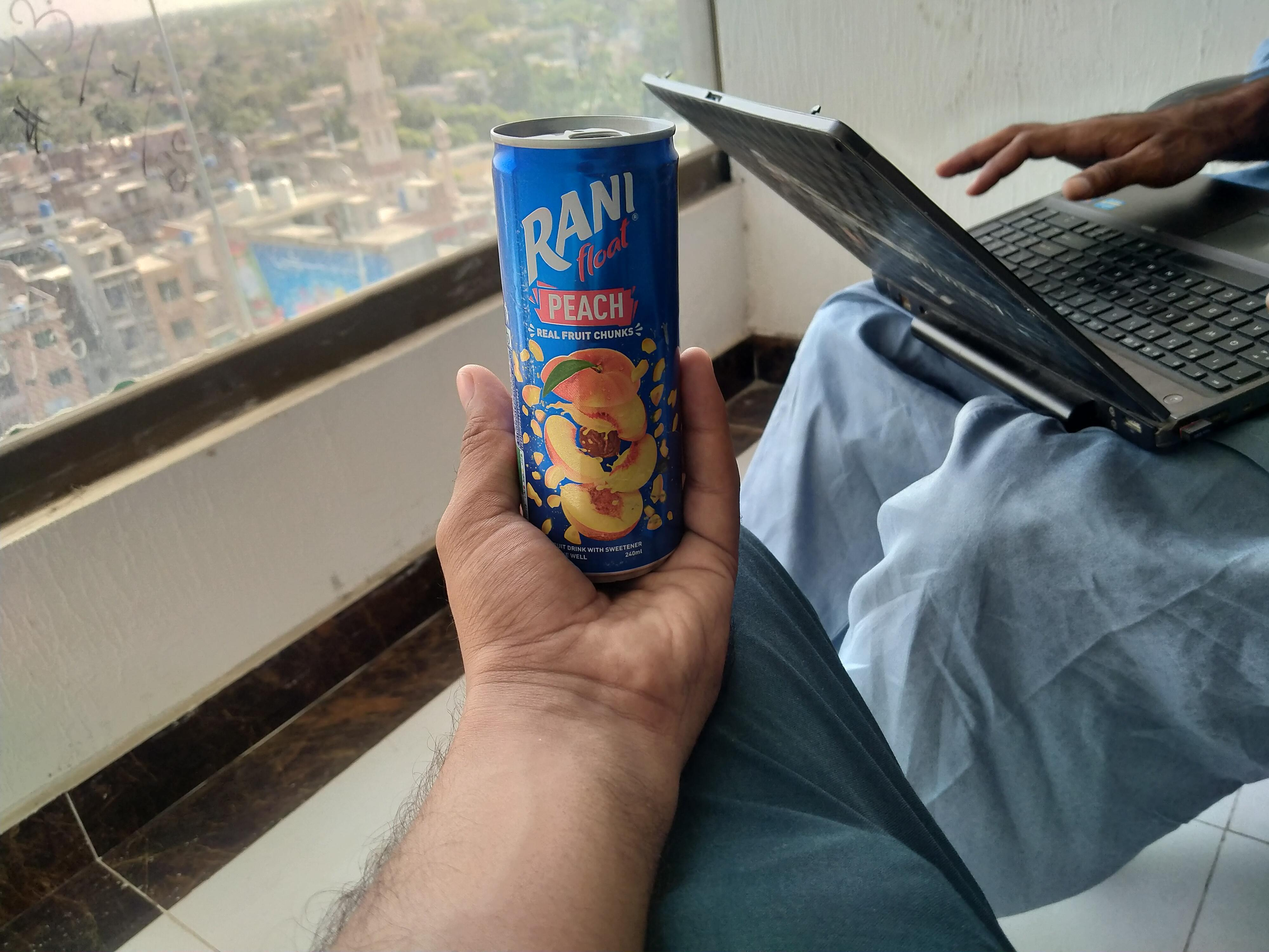tin can: (491, 111, 691, 587)
